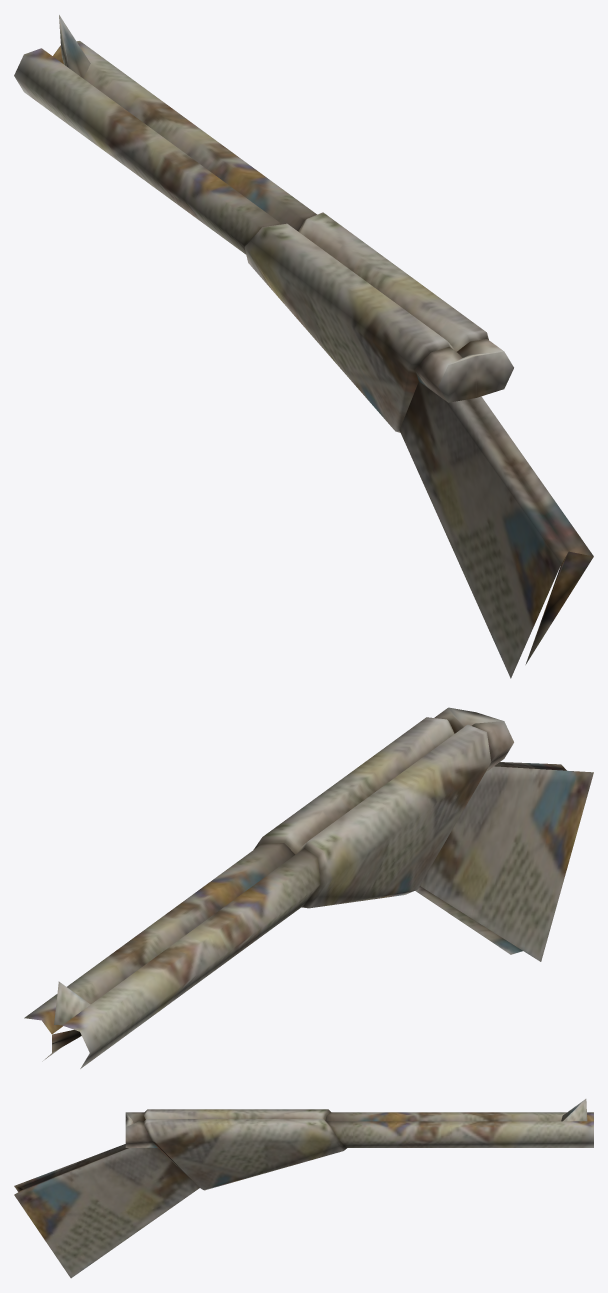
Rendered from paperGun.glb.
3 views of the same model, one above another, from view 1: azimuth 30°, elevation 25°; view 2: azimuth 150°, elevation 25°; view 3: azimuth 270°, elevation 25° (orthographic). The views are drawn at different scales.
Parts seen in each view (by area): view 1: paperGun; view 2: paperGun; view 3: paperGun.
Boxes of the visible parts, <box> form: paperGun: <box>14,15,593,678</box>; paperGun: <box>24,707,593,1068</box>; paperGun: <box>14,1099,593,1278</box>.
Size of the model in its own units: 0.0542 by 0.2009 by 0.5995.
1 material, 1 textured.
